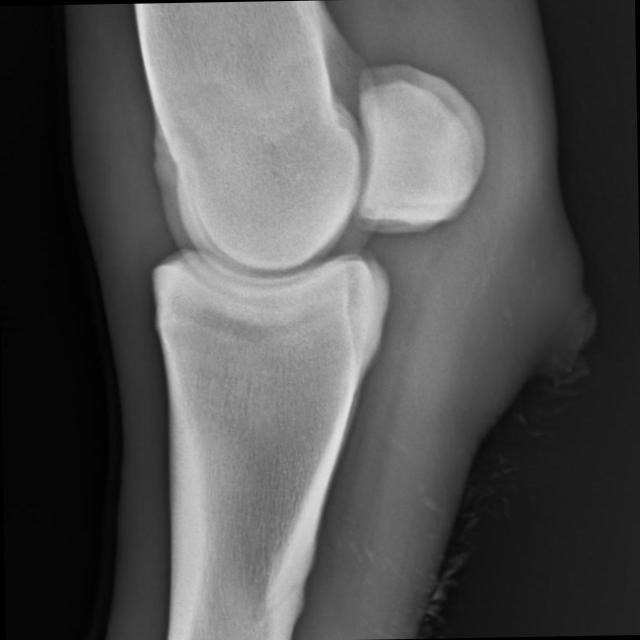bone remodeling: (118, 100, 205, 208)
